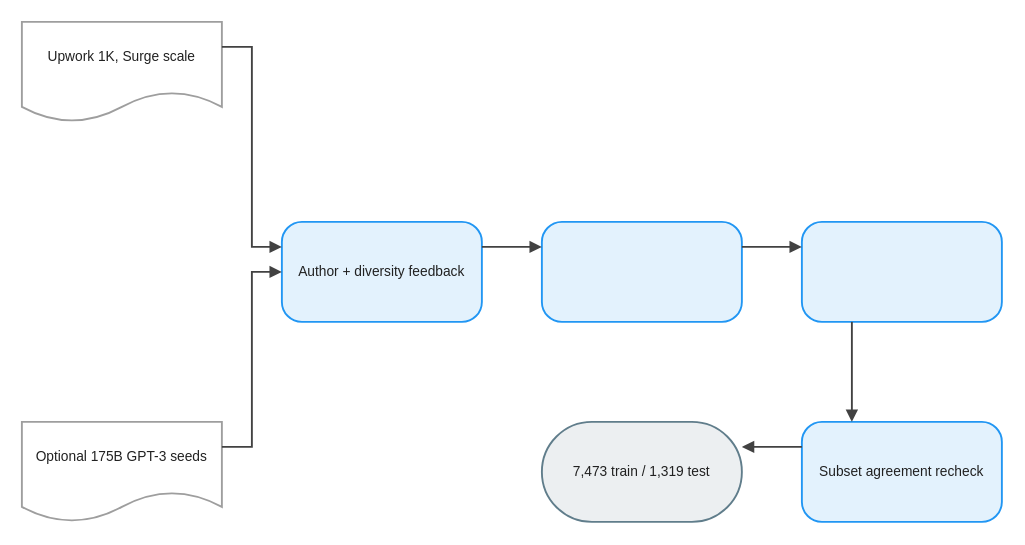
This 1025x545 diagram has some shape labels left out. The centre of each missing label's shape, as x and y in pixels:
Fix / drop mismatches: the point at 901,271
Independent full re-solve: the point at 641,271
